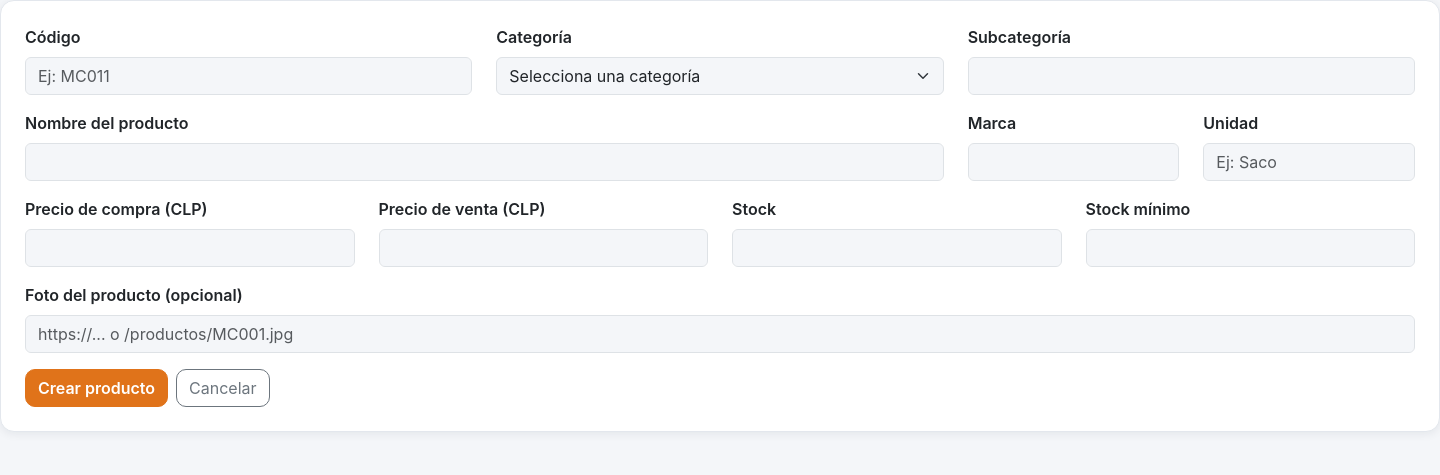
Scenario: ProductForm (formulario controlado) › muestra error de código duplicado
This screenshot has width=1440, height=475.
In the field labelled "Código": x=249, y=76 [25,57,472,95], type "MC001"
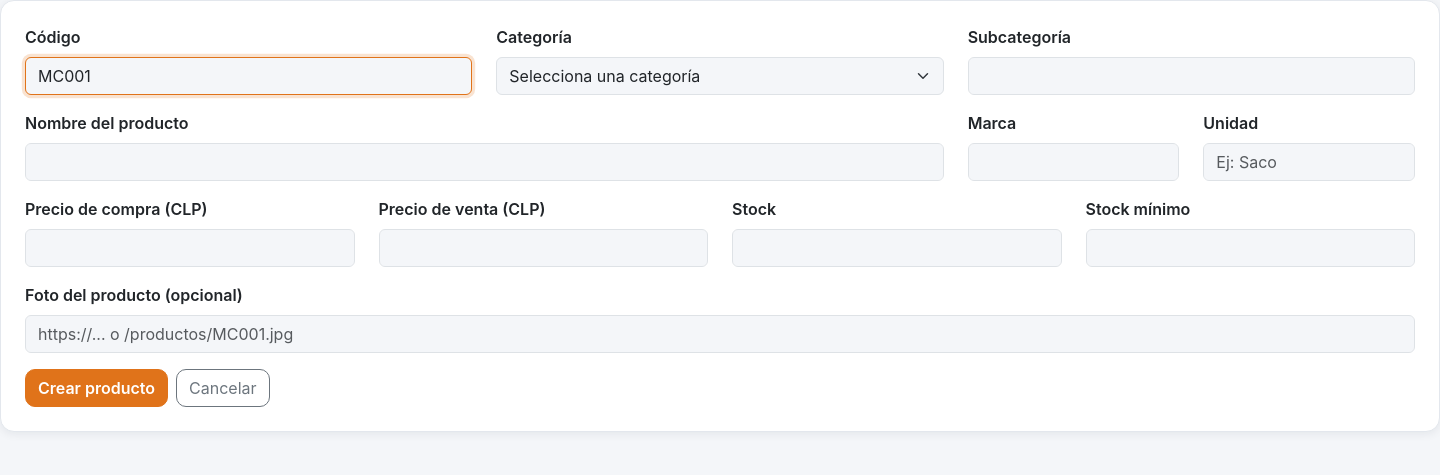
Press Tab
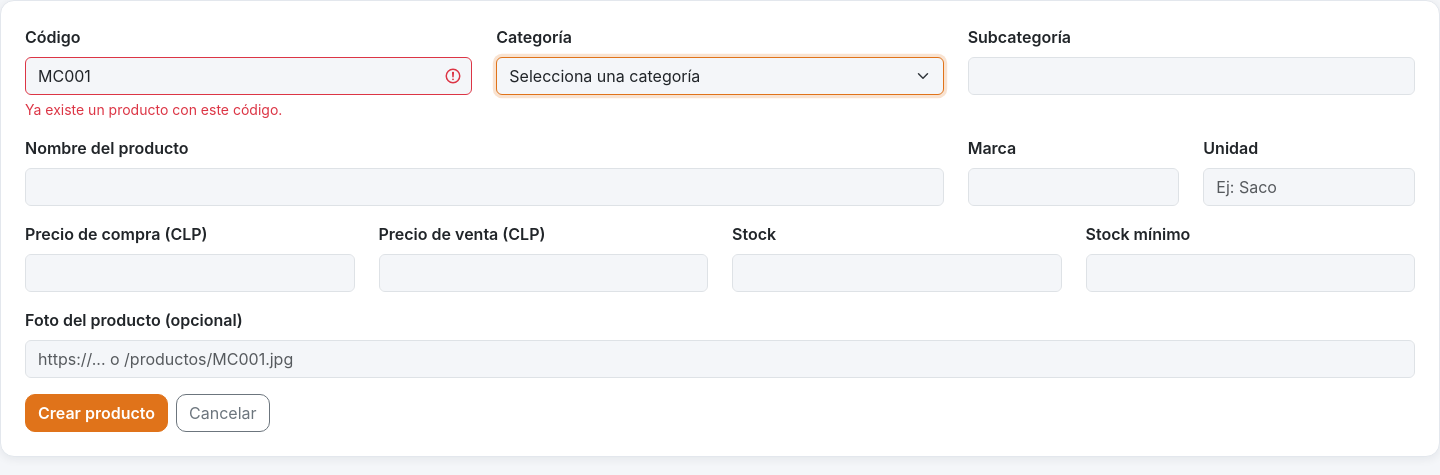
Result: the text "Ya existe un producto con este código." is shown at [25,101,282,118]
